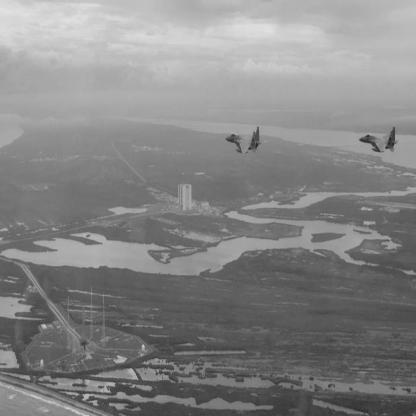F15: (226, 127, 265, 157), (360, 127, 400, 154)
